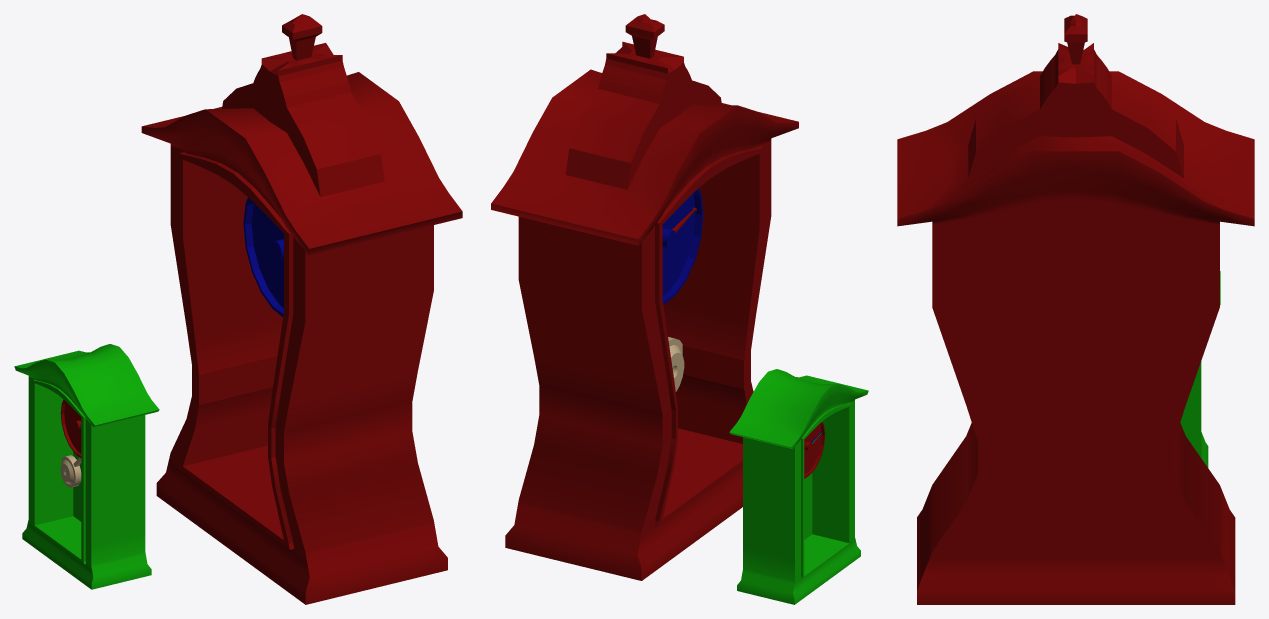
Rendered from Clocks_Right_ClockShop.fbx.
3 renders of one model, left to right at view 1: azimuth 30°, elevation 25°; view 2: azimuth 150°, elevation 25°; view 3: azimuth 270°, elevation 25°, orthographic. The views are drawn at different scales.
Visible parts, largest first — view 1: Clock010, Clock011, Clock_arm002; view 2: Clock010, Clock011, Clock009; view 3: Clock010, Clock011.
Part boxes in pixels (<box>): Clock010: <box>141,14,462,604</box>; Clock011: <box>14,344,159,589</box>; Clock_arm002: <box>60,455,81,487</box>; Clock010: <box>491,14,798,580</box>; Clock011: <box>729,369,868,604</box>; Clock009: <box>668,337,684,391</box>; Clock010: <box>897,14,1254,604</box>; Clock011: <box>1180,271,1220,467</box>.
Bounding box in the file's own units: 31.23 × 52.17 × 30.52.
